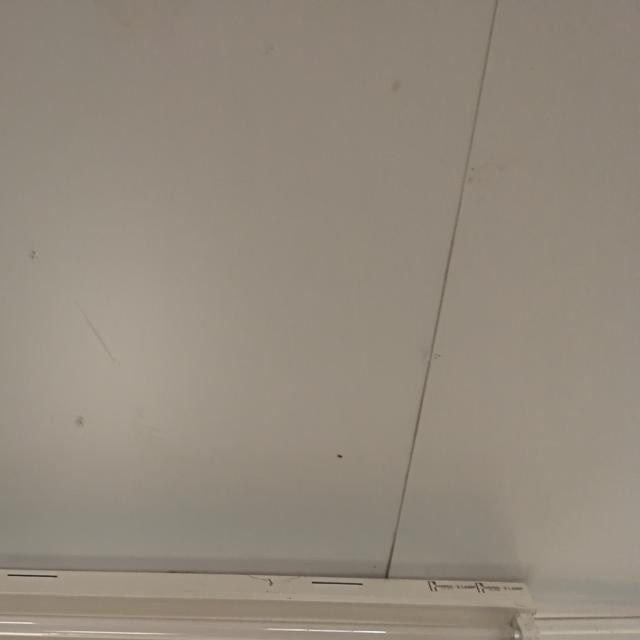fluorescent tube: (0, 520, 571, 639)
